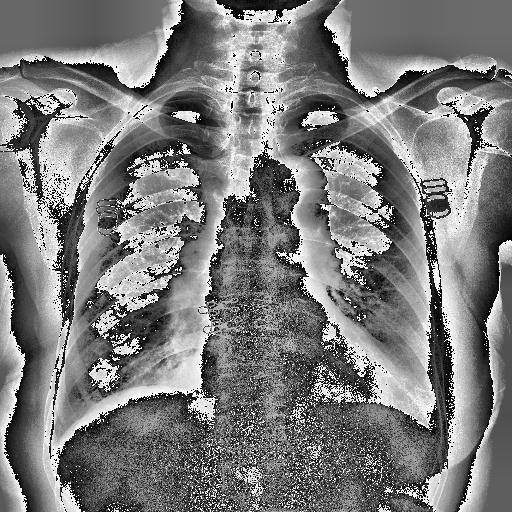0- Aortic enlargement: (255, 156, 333, 228), (254, 156, 332, 228), (253, 156, 331, 218)
11- Pleural thickening: (157, 90, 218, 104), (288, 94, 316, 108)
3- Cardiomegaly: (191, 348, 404, 412), (188, 342, 402, 404), (184, 355, 400, 415)
